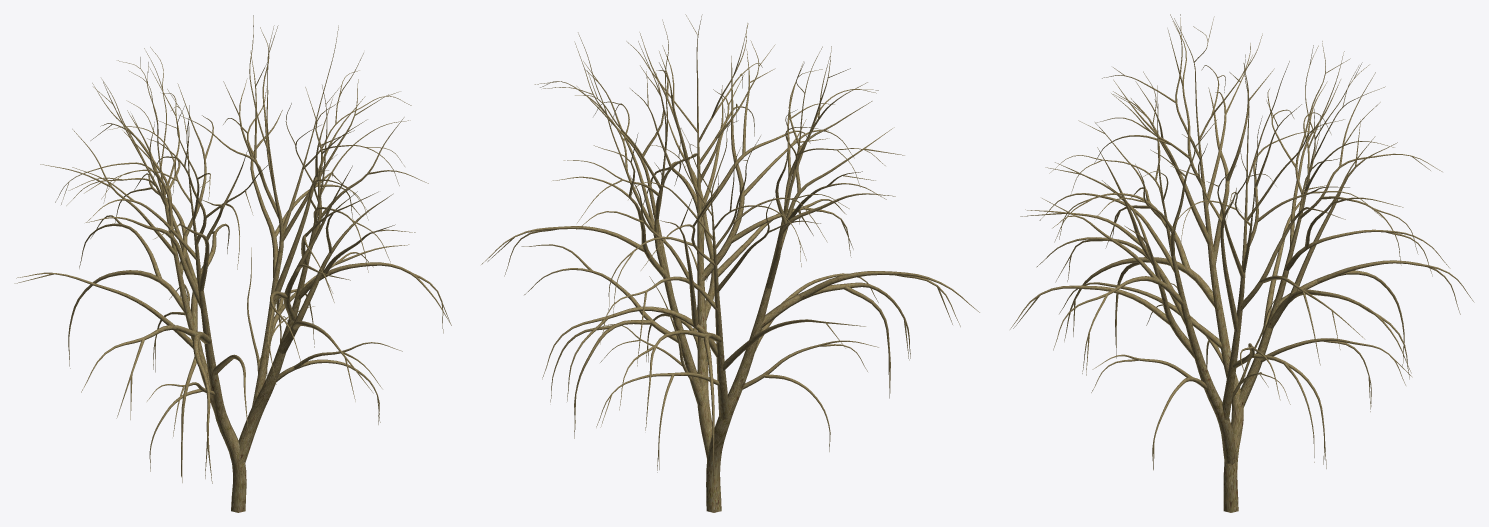
File: easy_world_tree004.dae
The picture shows the model from 3 angles, left to right: view 1: azimuth 30°, elevation 25°; view 2: azimuth 150°, elevation 25°; view 3: azimuth 270°, elevation 25°; orthographic projection. The views are drawn at different scales.
Parts seen in each view (by area): view 1: tree004; view 2: tree004; view 3: tree004.
Boxes of the visible parts, left/top/right/bottom form: tree004: left=14, top=15, right=451, bottom=512; tree004: left=481, top=14, right=979, bottom=512; tree004: left=1010, top=14, right=1474, bottom=512.
Bounding box in the file's own units: 5.47 × 5.61 × 6.34.
1 material, 1 textured.
